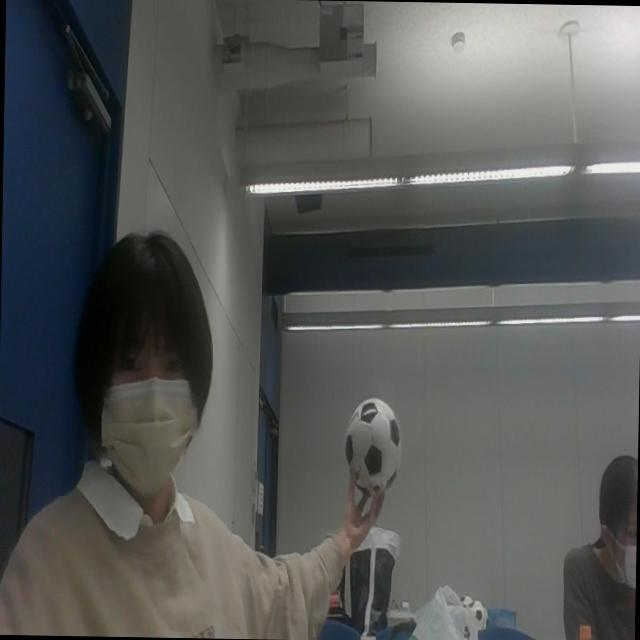Soccer Ball: (342, 396, 402, 493)
